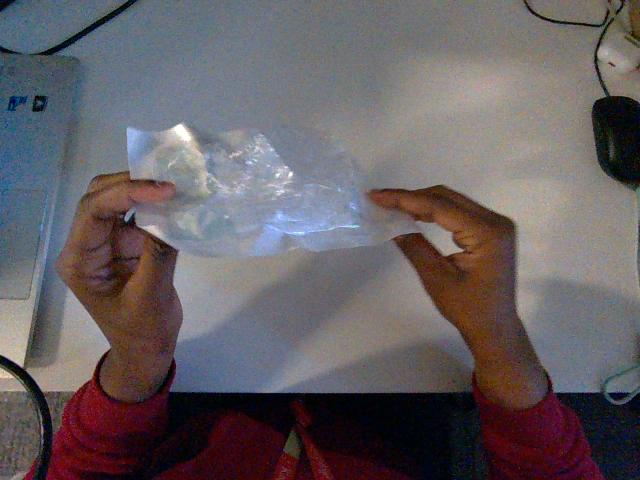gallipot: (127, 124, 417, 256)
